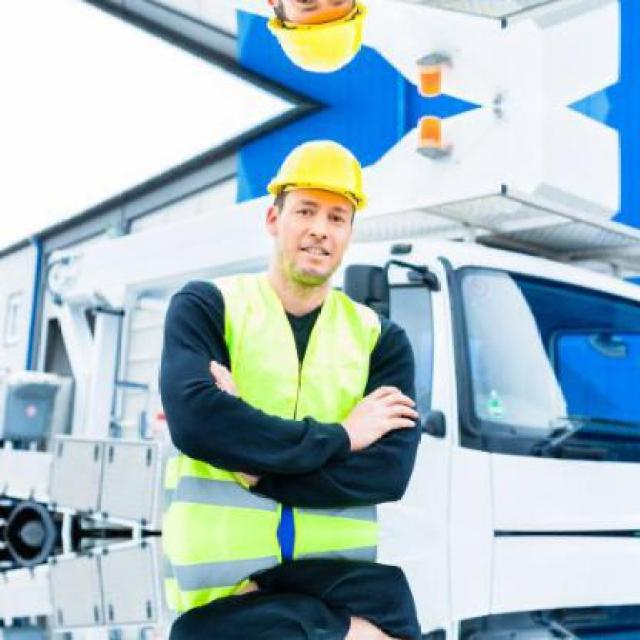Reflective-Jacket: (152, 268, 396, 596)
Safety-Helmet: (256, 134, 376, 218)
